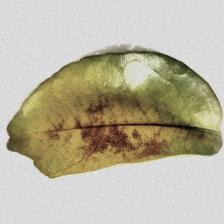black spot: (66, 104, 174, 166)
